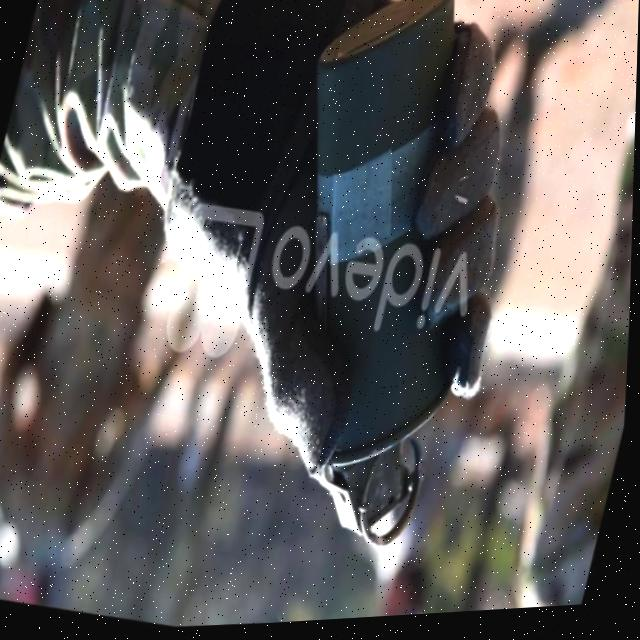grenade: (208, 0, 556, 572)
